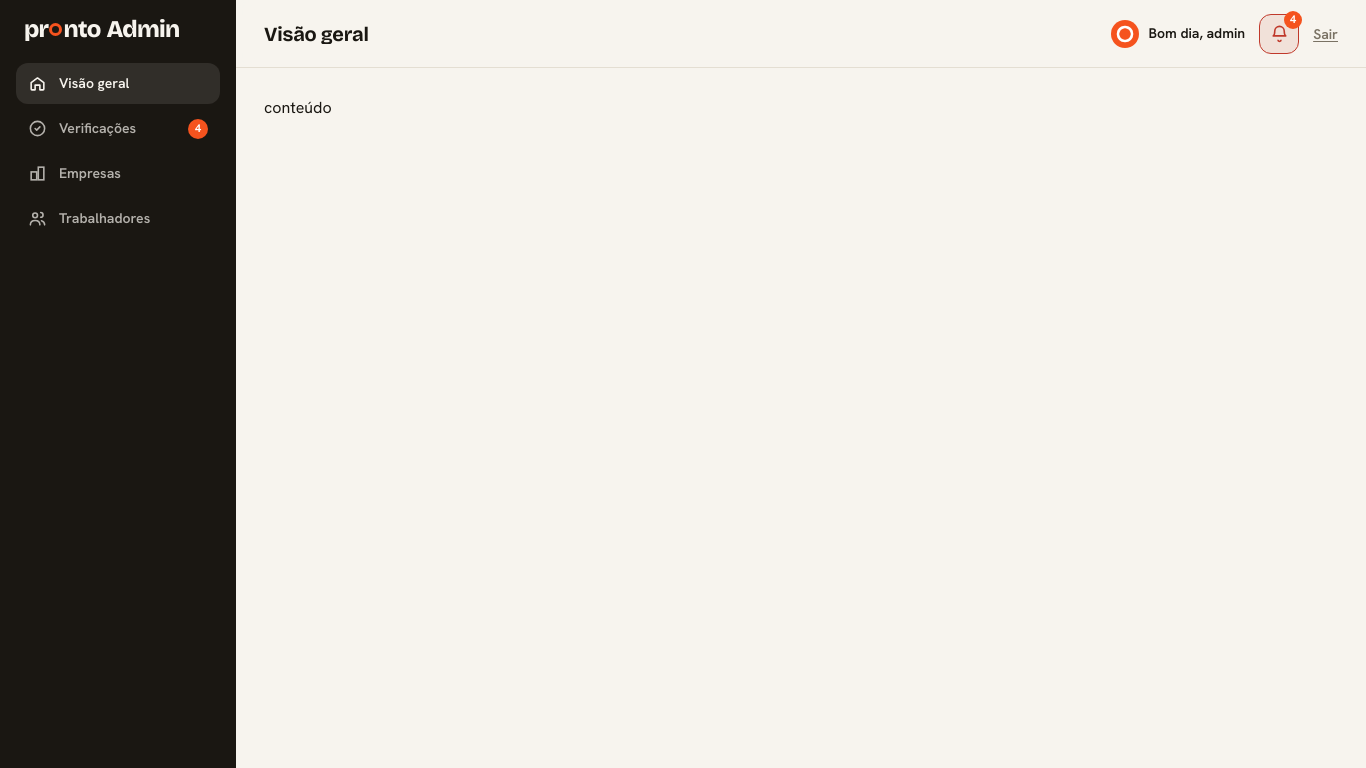
Test: AdminLayout › mostra a soma de trabalhadores, empresas e categorias pendentes no sino, no menu e no dropdown
The width and height of the screenshot is (1366, 768).
Check: the text "4" is shown 2 times, box [188,119,208,139]; [1284,10,1302,28]
Click the button named "4 verificação(ões) pendente(s)": click(1279, 34) [1259,14,1299,54]
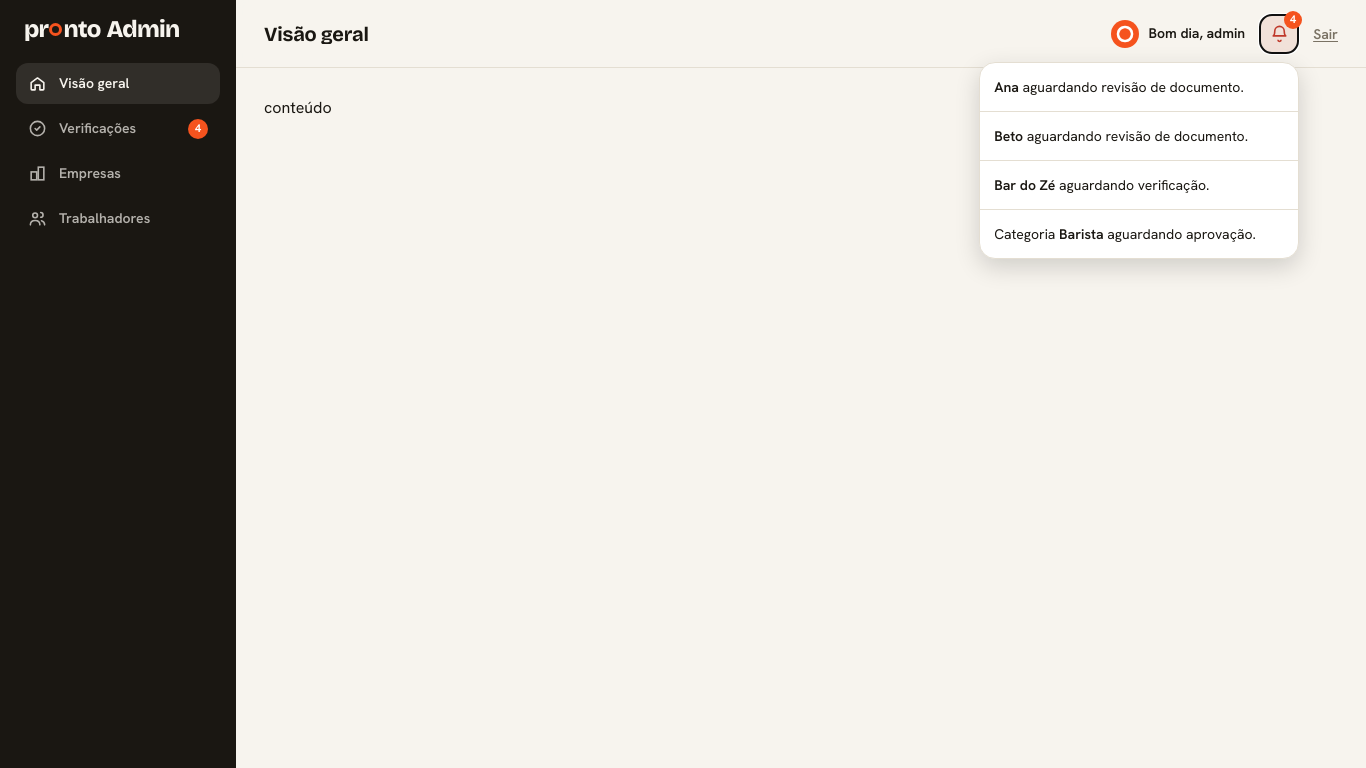
Check: the text "Ana" is shown, box [994,78,1019,96]
Check: the text "Beto" is shown, box [994,126,1023,144]
Check: the text "Bar do Zé" is shown, box [994,176,1055,194]
